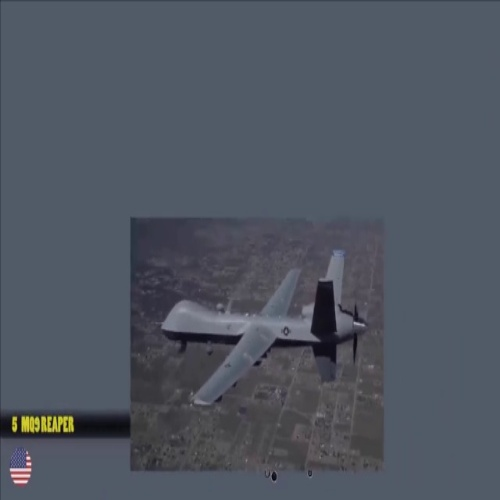uav918: (155, 245, 377, 411)
